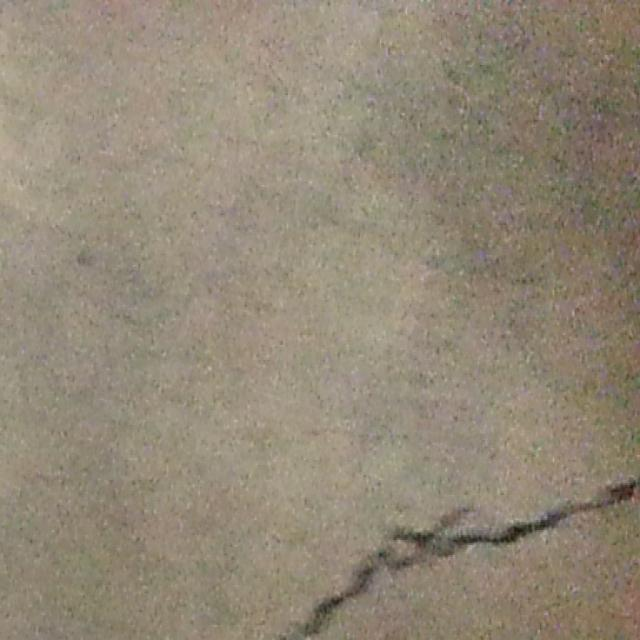Annular: (349, 495, 460, 597)
Diagonal: (471, 476, 640, 554), (289, 592, 348, 640)
